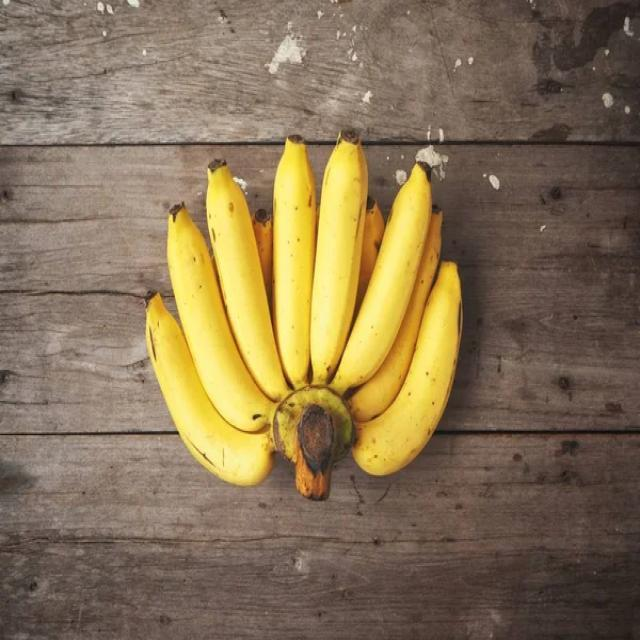Banana: (143, 126, 469, 508)
